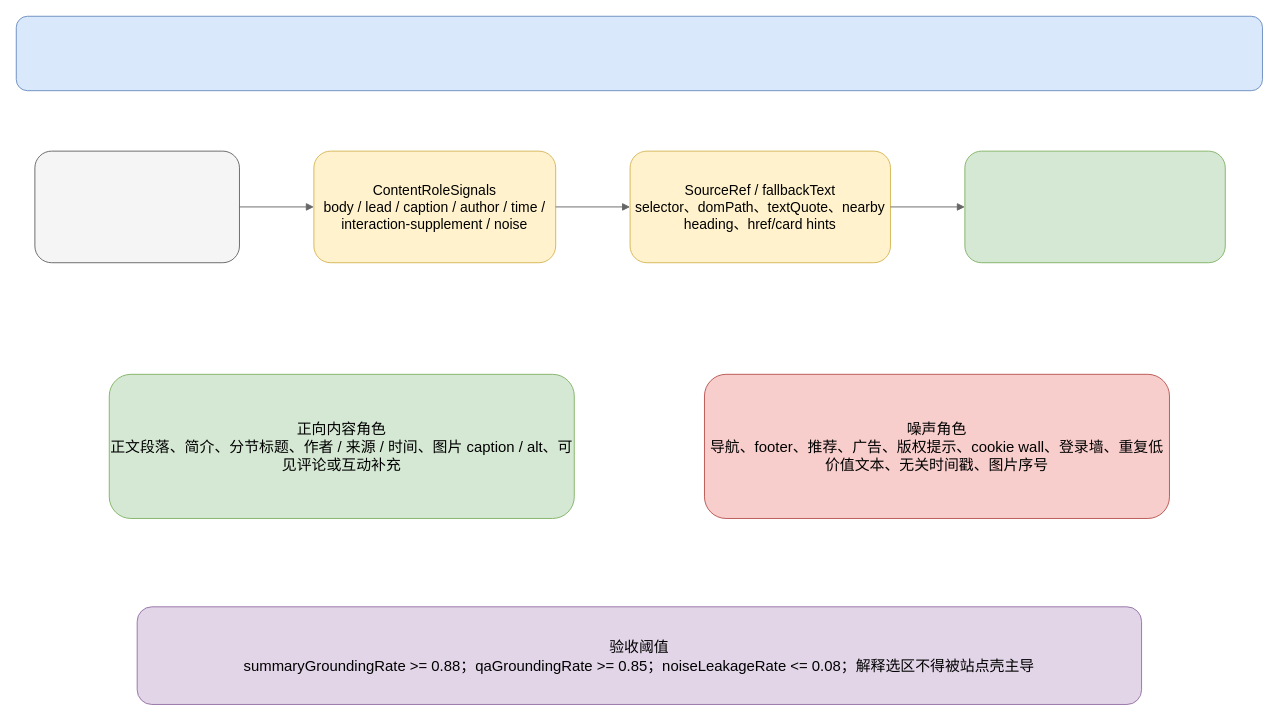
The diagram is 1279 pixels wide and 721 high, and some of its shapes have lost their labels. Each missing label, with the centre of its shape:
"DOM block 标题、正文、简介、caption、评论、导航、推荐、广告" goes at pixel 136 206.
"Grounded outputs summary / QA / explain selection 无法支撑则 degraded 或证据不足" goes at pixel 1094 206.
"内容角色识别与 Grounding 链路 目标：总结 / 问答 / 解释选区都能追溯到当前页主内容证据" goes at pixel 638 53.
